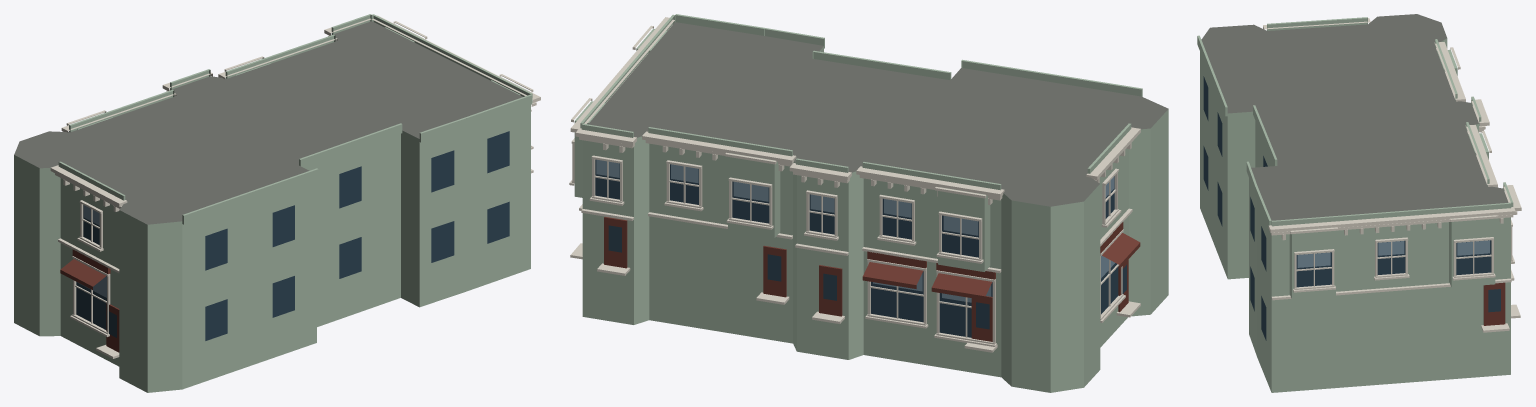
The picture shows the model from 3 angles, left to right: view 1: azimuth 30°, elevation 25°; view 2: azimuth 150°, elevation 25°; view 3: azimuth 270°, elevation 25°; orthographic projection. The views are drawn at different scales.
Parts seen in each view (by area): view 1: Footprint 0 / surface 2, Footprint 0 / surface 1, Inset glazing, Facade bay volumes, Cornices and window frames, Storefronts and doors; view 2: Footprint 0 / surface 2, Footprint 0 / surface 1, Cornices and window frames, Facade bay volumes, Inset glazing, Storefronts and doors, Sky reflection panels; view 3: Footprint 0 / surface 1, Footprint 0 / surface 2, Cornices and window frames, Facade bay volumes, Inset glazing, Sky reflection panels, Storefronts and doors.
Boxes of the visible parts, x1,y1,x2,y2 form: Footprint 0 / surface 2: (14, 105, 530, 392); Footprint 0 / surface 1: (14, 21, 522, 224); Inset glazing: (76, 131, 509, 340); Facade bay volumes: (58, 14, 532, 224); Cornices and window frames: (50, 15, 540, 358); Storefronts and doors: (60, 249, 119, 352); Footprint 0 / surface 2: (582, 46, 1168, 392); Footprint 0 / surface 1: (588, 22, 1168, 206); Cornices and window frames: (569, 17, 1140, 352); Facade bay volumes: (574, 14, 1142, 271); Inset glazing: (595, 159, 1126, 337); Storefronts and doors: (604, 217, 1140, 341); Sky reflection panels: (596, 159, 1114, 302); Footprint 0 / surface 1: (1201, 14, 1508, 220); Footprint 0 / surface 2: (1200, 38, 1510, 392); Cornices and window frames: (1263, 18, 1521, 332); Facade bay volumes: (1197, 17, 1513, 299); Inset glazing: (1203, 76, 1500, 340); Sky reflection panels: (1297, 240, 1489, 267); Storefronts and doors: (1483, 282, 1505, 325).
Bounding box in the file's own units: 26.32 × 9.61 × 16.39.
